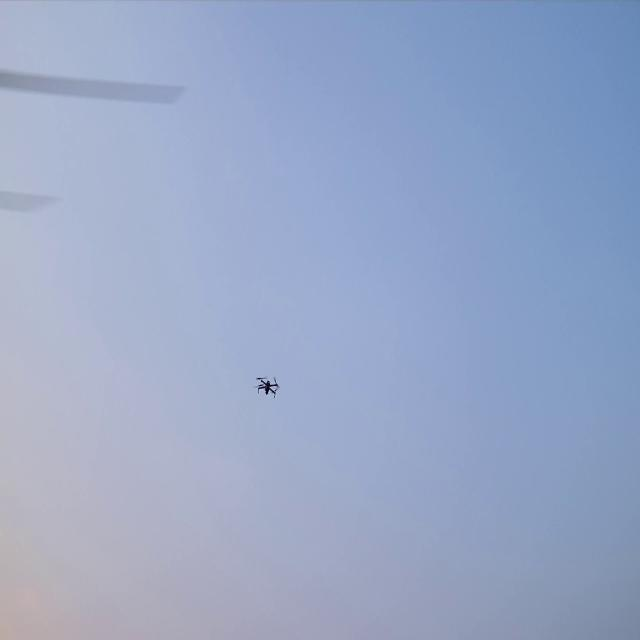UAV: (252, 374, 280, 398)
